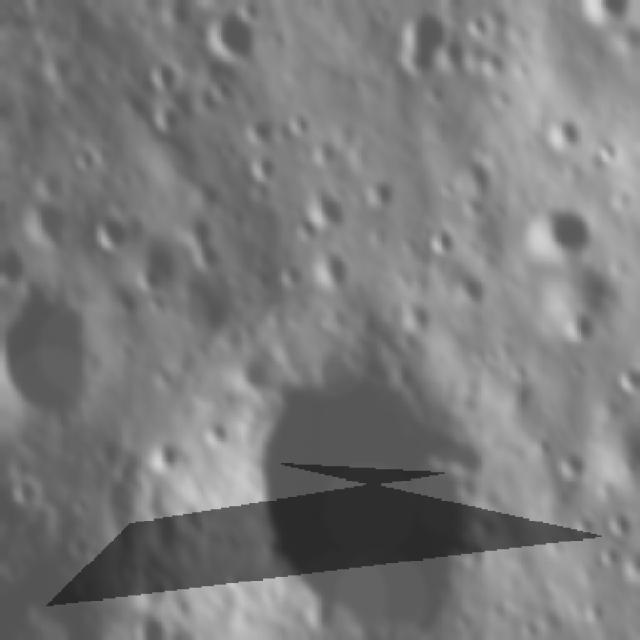crater: (230, 330, 485, 628), (0, 287, 92, 420), (398, 4, 460, 79), (528, 197, 594, 261), (206, 7, 268, 61), (299, 178, 347, 230), (92, 209, 139, 256), (310, 243, 353, 294), (550, 441, 592, 490), (544, 111, 587, 158), (24, 201, 70, 242), (177, 210, 218, 248), (561, 308, 599, 349), (238, 349, 274, 391), (108, 280, 144, 320), (14, 468, 49, 509), (146, 58, 185, 94), (455, 268, 494, 304), (428, 218, 464, 257), (239, 107, 276, 144), (148, 102, 186, 138), (146, 438, 183, 473), (367, 176, 402, 212), (38, 162, 72, 198), (606, 504, 637, 542), (276, 258, 306, 296), (72, 143, 105, 177), (133, 260, 165, 294), (190, 243, 225, 274), (246, 150, 280, 181), (468, 8, 498, 42), (0, 245, 23, 289), (594, 540, 624, 572), (284, 109, 316, 136), (597, 134, 621, 168)
